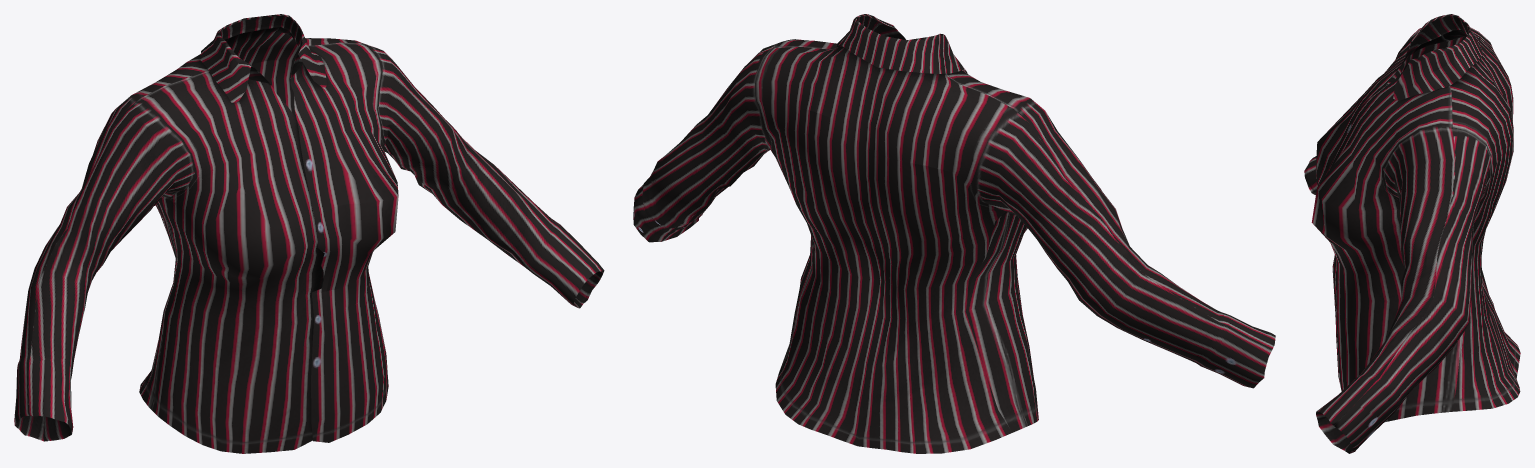
Rendered from LXL_XLF.dae.
3 renders of one model, left to right at view 1: azimuth 30°, elevation 25°; view 2: azimuth 150°, elevation 25°; view 3: azimuth 270°, elevation 25°, orthographic. The views are drawn at different scales.
Parts seen in each view (by area): view 1: shirt01Mesh; view 2: shirt01Mesh; view 3: shirt01Mesh.
Boxes of the visible parts, x1,y1,x2,y2 form: shirt01Mesh: (14,14,604,453); shirt01Mesh: (633,14,1275,453); shirt01Mesh: (1304,14,1520,453).
Size of the model in its own units: 9.2 by 5.76 by 3.07.
